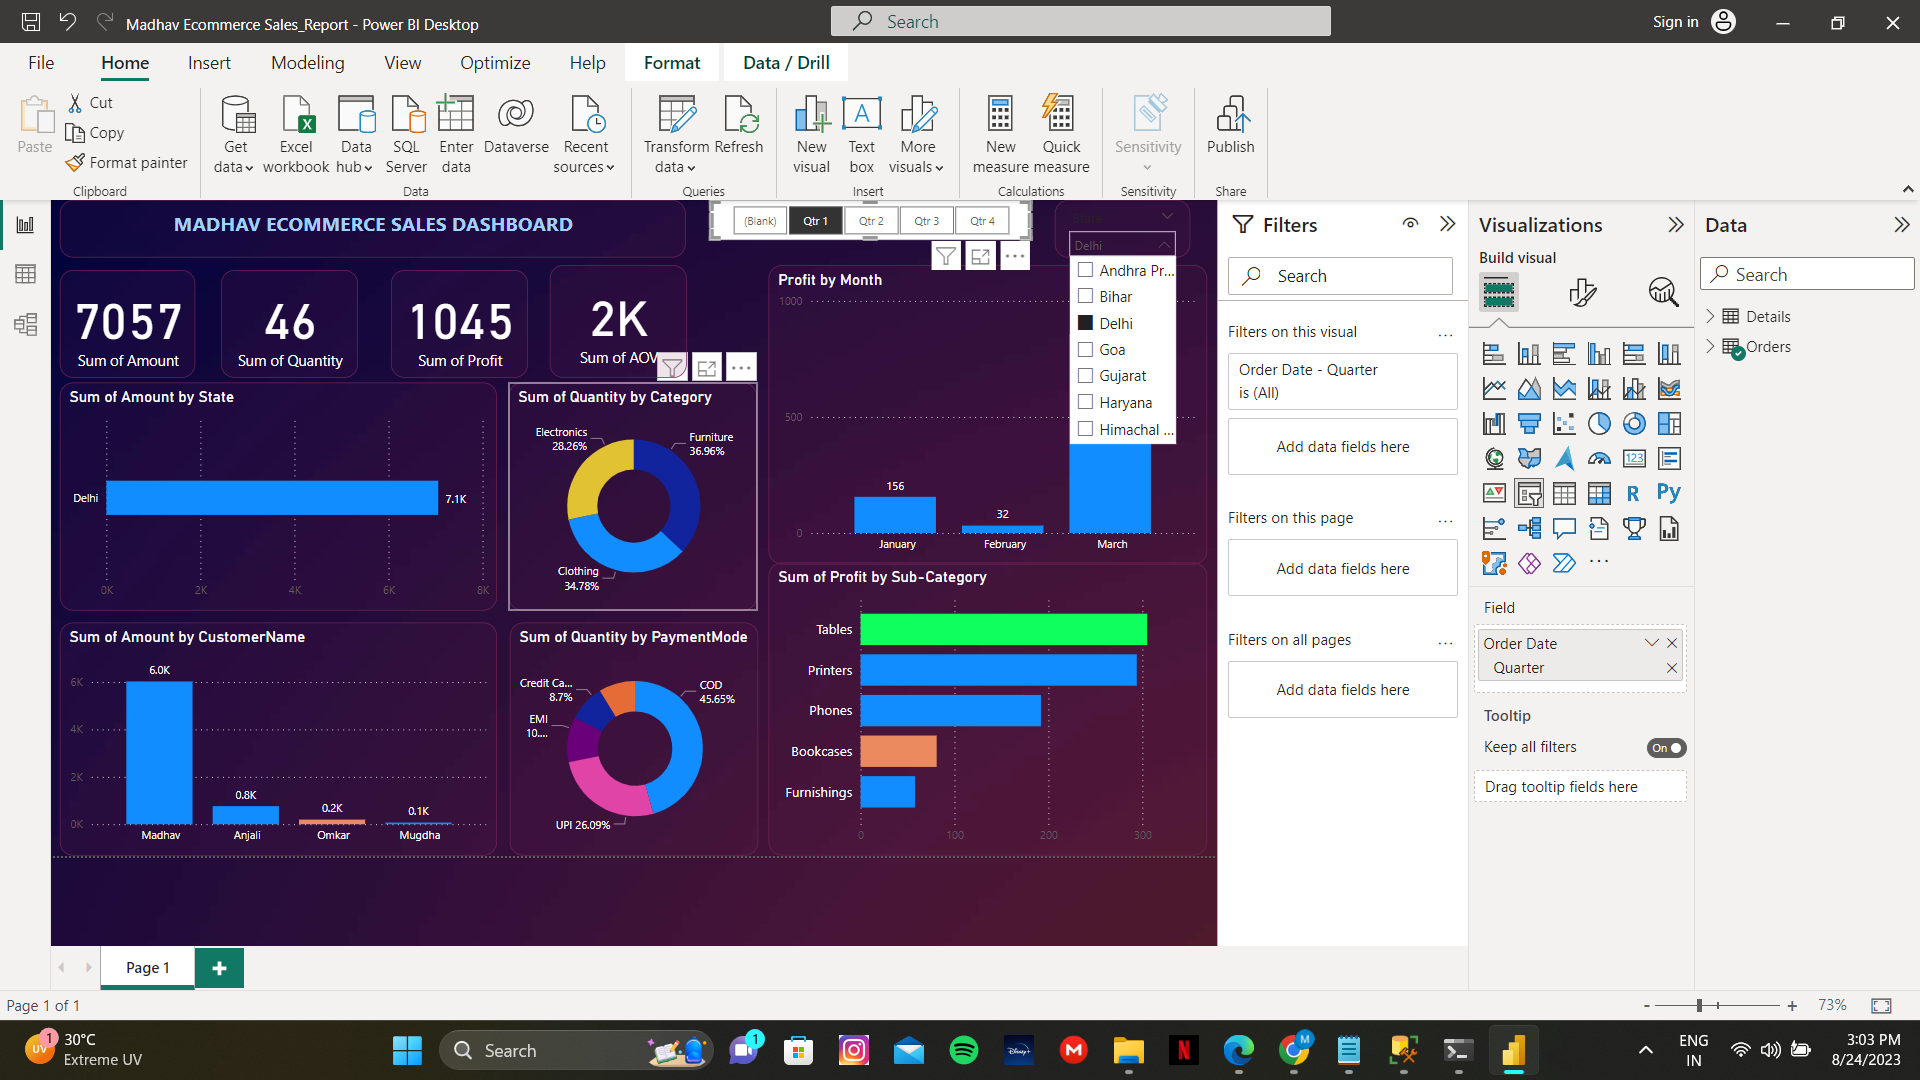

Layout of this report page (visuals, bound fields, positions):
{"tool":"powerbi","page":{"name":"Page 1","canvas":[1280,720],"ordinal":0},"visuals":[{"type":"textbox","box":[10,0,687.1,62.9],"z":0},{"type":"columnChart","title":"Profit by Month","fields":{"Y":["Sum(Details.Profit)"],"Category":["Orders.Order Date.Variation.Date Hierarchy.Month"]},"box":[787.1,71.4,481.4,328.6],"z":1000},{"type":"barChart","fields":{"Category":["Details.Sub-Category"],"Y":["Sum(Details.Profit)"]},"box":[787.1,398.6,481.4,321.4],"z":2000},{"type":"donutChart","fields":{"Category":["Details.Category"],"Y":["Sum(Details.Quantity)"]},"box":[502.9,200,272.9,250],"z":3000},{"type":"donutChart","fields":{"Y":["Sum(Details.Quantity)"],"Category":["Details.PaymentMode"]},"box":[504.3,464.3,272.9,255.7],"z":4000},{"type":"card","fields":{"Values":["Sum(Details.Amount)"]},"box":[10,77.1,148.6,118.6],"z":5000},{"type":"card","fields":{"Values":["Sum(Details.Quantity)"]},"box":[187.1,77.1,150,118.6],"z":6000},{"type":"card","fields":{"Values":["Sum(Details.Profit)"]},"box":[372.9,77.1,150,118.6],"z":7000},{"type":"card","fields":{"Values":["Sum(Details.AOV)"]},"box":[547.1,71.4,150,124.3],"z":8000},{"type":"barChart","fields":{"Category":["Orders.State"],"Y":["Sum(Details.Amount)"]},"box":[10,200,480,250],"z":9000},{"type":"columnChart","fields":{"Category":["Orders.CustomerName"],"Y":["Sum(Details.Amount)"]},"box":[10,464.3,480,255.7],"z":10000},{"type":"slicer","fields":{"Values":["Orders.Order Date.Variation.Date Hierarchy.Quarter"]},"box":[722.9,0,352.9,44.3],"z":11000},{"type":"slicer","fields":{"Values":["Orders.State"]},"box":[1101.4,0,148.6,62.9],"z":11001}]}

Visuals, with their boxes on the page's 1280x720 design canvas (x1, y1, x2, y2). These are canvas units, not pixel positions in the 1920x1080 screenshot, which may show the page scaled, cropped or inside an application window:
textbox: 10,0,697,63
"Profit by Month" columnChart: 787,71,1268,400
barChart - Details.Sub-Category x Sum(Details.Profit): 787,399,1268,720
donutChart - Details.Category x Sum(Details.Quantity): 503,200,776,450
donutChart - Sum(Details.Quantity) x Details.PaymentMode: 504,464,777,720
card - Sum(Details.Amount): 10,77,159,196
card - Sum(Details.Quantity): 187,77,337,196
card - Sum(Details.Profit): 373,77,523,196
card - Sum(Details.AOV): 547,71,697,196
barChart - Orders.State x Sum(Details.Amount): 10,200,490,450
columnChart - Orders.CustomerName x Sum(Details.Amount): 10,464,490,720
slicer - Orders.Order Date.Variation.Date Hierarchy.Quarter: 723,0,1076,44
slicer - Orders.State: 1101,0,1250,63
